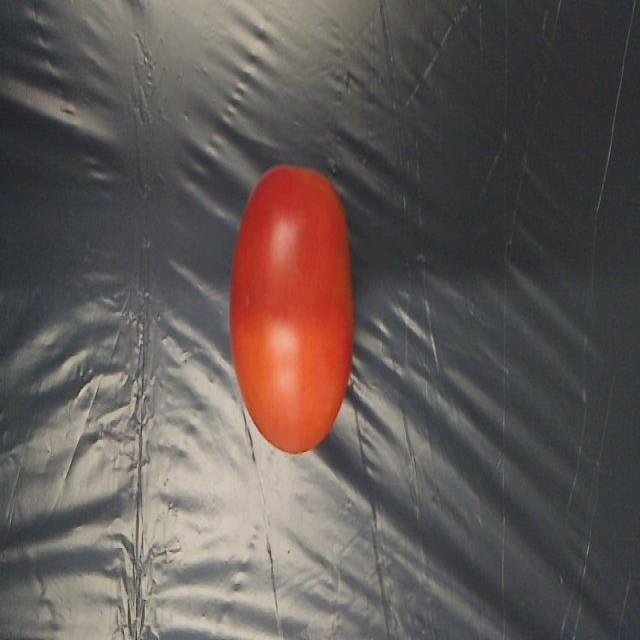sari: (212, 181, 354, 457)
